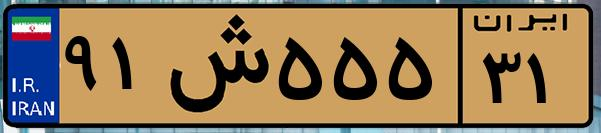1: (525, 38, 570, 115), (110, 28, 158, 98)
3: (475, 38, 525, 113)
5: (270, 28, 330, 110), (385, 28, 445, 110), (330, 28, 385, 110)
9: (57, 26, 110, 100)
ش: (158, 12, 270, 120)
